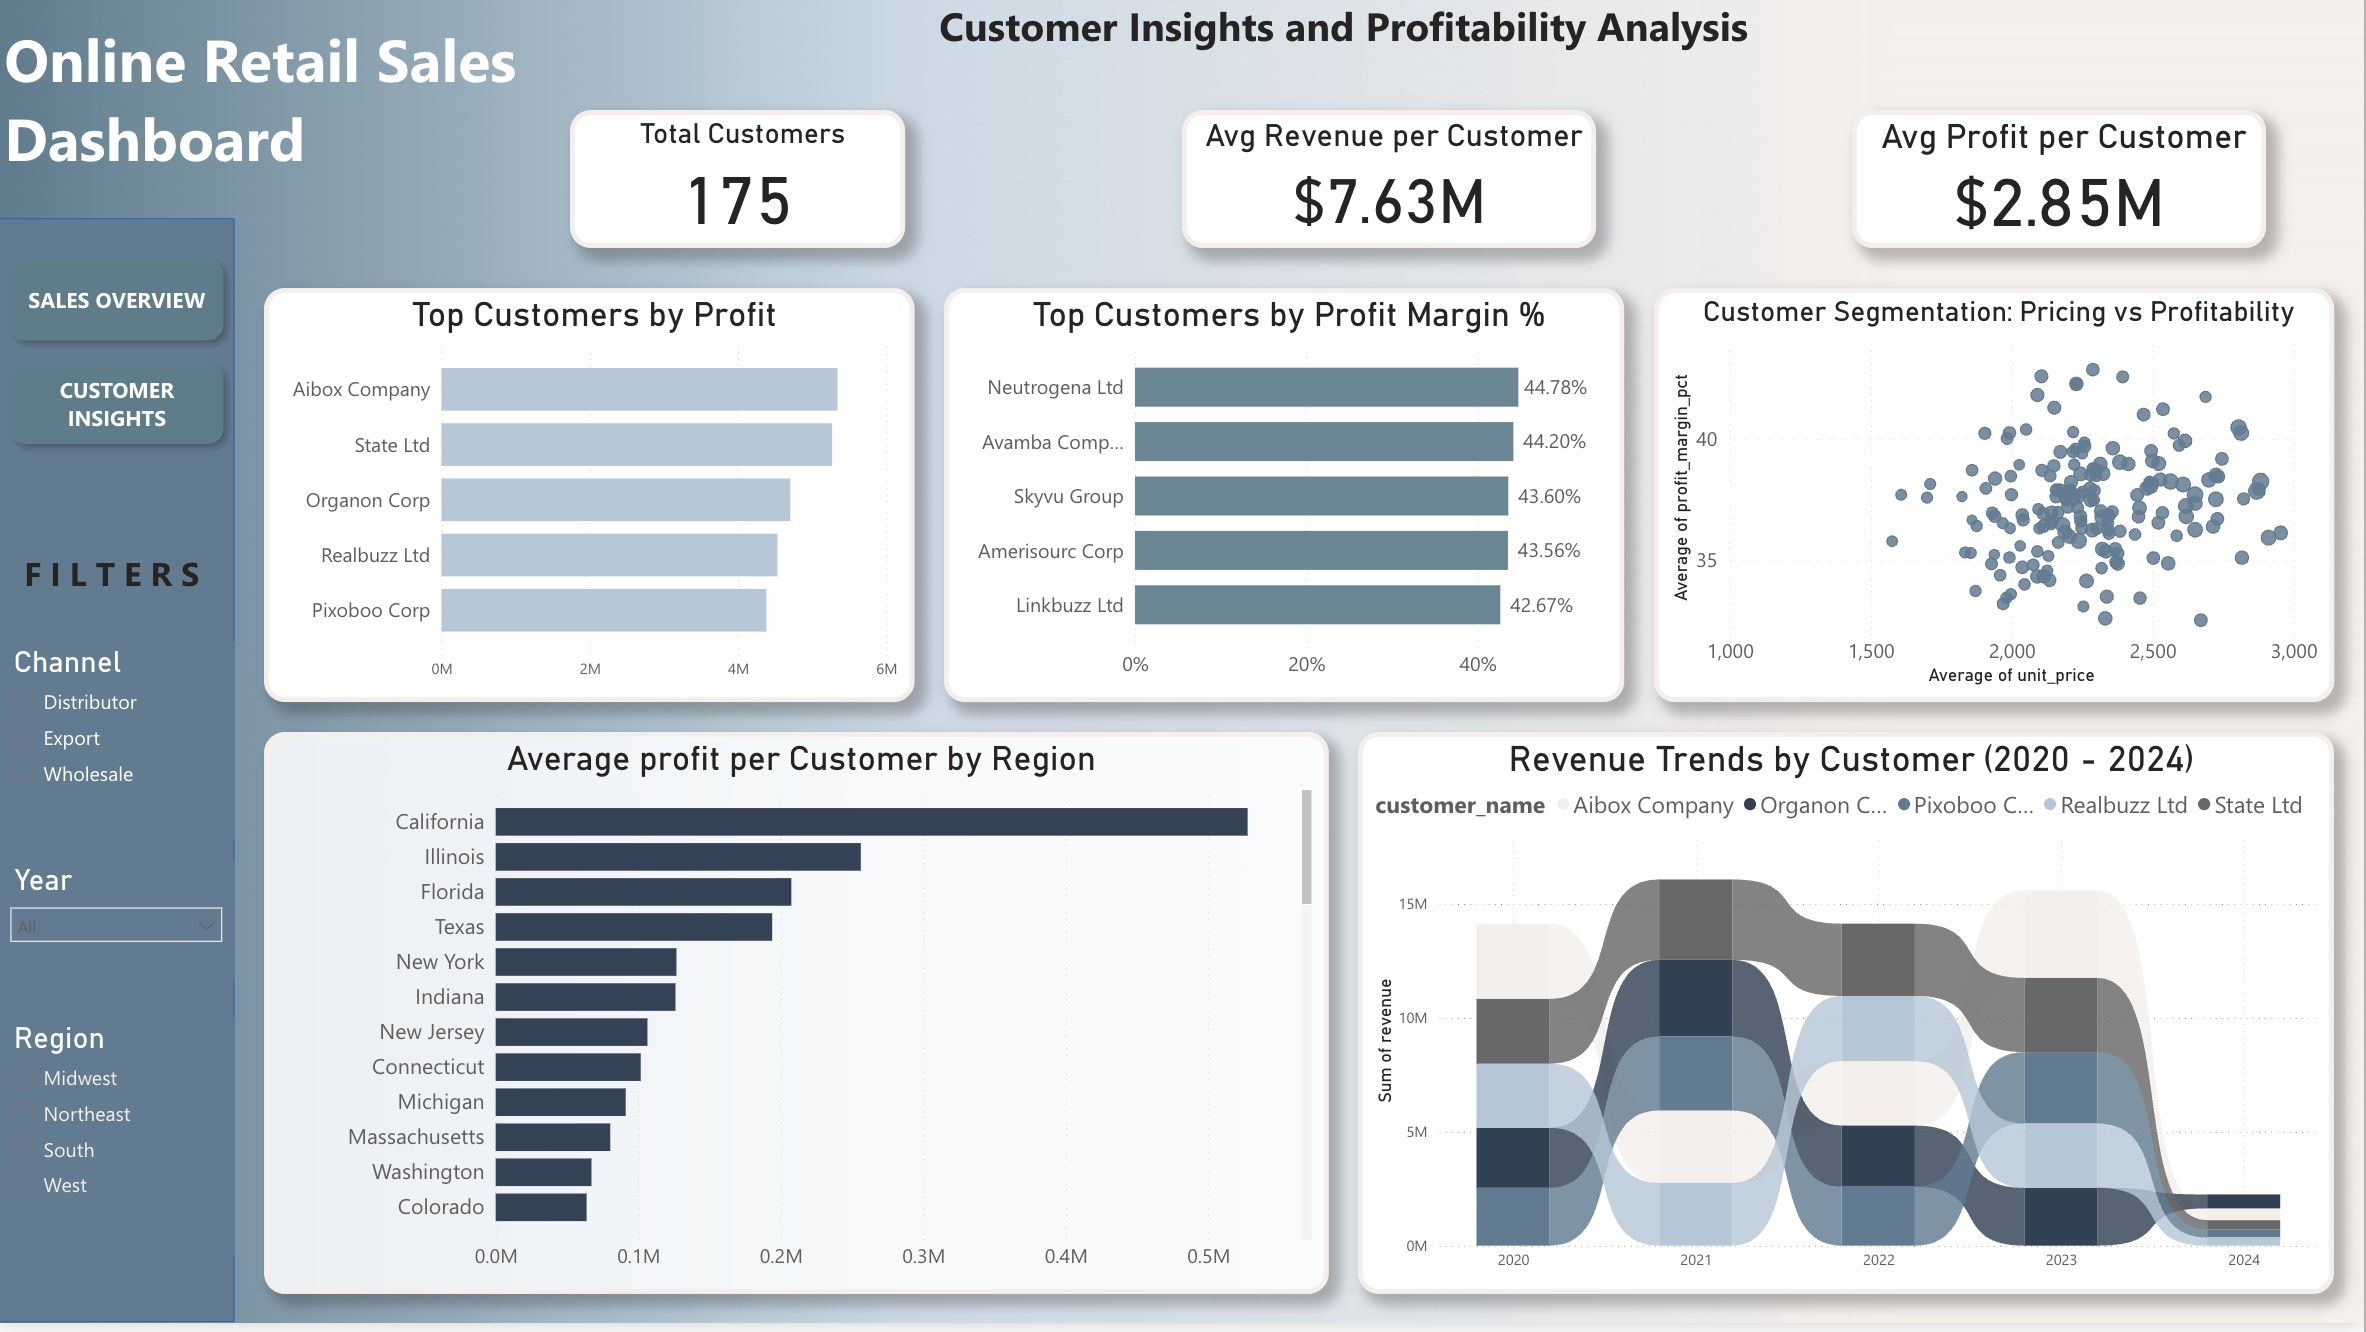

The dashboard page shown, as its layout file describes it:
{"tool":"powerbi","page":{"name":"CUSTOMER INSIGHTS","canvas":[1920,1080],"ordinal":1},"visuals":[{"type":"shape","box":[0,184,192,896],"z":0},{"type":"clusteredBarChart","title":"Top Customers by Profit","fields":{"Category":["Sales.customer_name"],"Y":["Sum(Sales.profit)"]},"box":[216,240,528,336],"z":1000},{"type":"scatterChart","title":"Customer Segmentation: Pricing vs Profitability","fields":{"Size":["Sum(Sales.revenue)"],"X":["Avg(Sales.unit_price)"],"Y":["Avg(Sales.profit_margin_pct)"],"Category":["Sales.customer_name"]},"box":[1344,240,552,336],"z":2000},{"type":"barChart","title":"Top Customers by Profit Margin %","fields":{"Category":["Sales.customer_name"],"Y":["Measures -.Profit Margin %"]},"box":[768,240,552,336],"z":3000},{"type":"ribbonChart","title":"Revenue Trends by Customer (2020 - 2024)","fields":{"Category":["Sales.Year"],"Series":["Sales.customer_name"],"Y":["Sum(Sales.revenue)"]},"box":[1104,600,792,456],"z":4000},{"type":"clusteredBarChart","title":"Average profit per Customer by Region","fields":{"Category":["Sales.state_name"],"Y":["Measures -.Profit per Customer"]},"box":[216,600,864,456],"z":5000},{"type":"card","title":"Total Customers","fields":{"Values":["Measures -.Total Customers"]},"box":[464,96,272,112],"z":6000},{"type":"card","title":"Avg Revenue per Customer ","fields":{"Values":["Measures -.Avg Revenue per Customer"]},"box":[960,96,336,112],"z":7000},{"type":"card","title":"Avg Profit per Customer","fields":{"Values":["Measures -.Avg Profit per Customer"]},"box":[1504,96,336,112],"z":8000},{"type":"textbox","box":[192,0,1704,72],"z":9000},{"type":"pageNavigator","box":[0,256,192,160],"z":10000},{"type":"textbox","box":[16,448,176,80],"z":11000},{"type":"textbox","box":[0,16,528,176],"z":12000},{"type":"slicer","fields":{"Values":["Sales.channel"]},"box":[6,544,176,176],"z":13000},{"type":"slicer","fields":{"Values":["Sales.Year"]},"box":[5,736,176,96],"z":14000},{"type":"slicer","fields":{"Values":["Sales.us_region"]},"box":[5,864,176,192],"z":15000},{"type":"textbox","box":[16,208,1888,96],"z":16000},{"type":"actionButton","box":[1792,16,96,64],"z":16001}]}

Visuals, with their boxes in screenshot pixels (x1, y1, x2, y2), scaled from the page's 1920x1080 canvas onto the 2366x1332 screenshot:
shape: Rect(0, 227, 237, 1331)
"Top Customers by Profit" clusteredBarChart: Rect(266, 296, 917, 710)
"Customer Segmentation: Pricing vs Profitability" scatterChart: Rect(1656, 296, 2336, 710)
"Top Customers by Profit Margin %" barChart: Rect(946, 296, 1627, 710)
"Revenue Trends by Customer (2020 - 2024)" ribbonChart: Rect(1360, 740, 2336, 1302)
"Average profit per Customer by Region" clusteredBarChart: Rect(266, 740, 1331, 1302)
"Total Customers" card: Rect(572, 118, 907, 257)
"Avg Revenue per Customer " card: Rect(1183, 118, 1597, 257)
"Avg Profit per Customer" card: Rect(1853, 118, 2267, 257)
textbox: Rect(237, 0, 2336, 89)
pageNavigator: Rect(0, 316, 237, 513)
textbox: Rect(20, 553, 237, 651)
textbox: Rect(0, 20, 651, 237)
slicer - Sales.channel: Rect(7, 671, 224, 888)
slicer - Sales.Year: Rect(6, 908, 223, 1026)
slicer - Sales.us_region: Rect(6, 1066, 223, 1302)
textbox: Rect(20, 257, 2346, 375)
actionButton: Rect(2208, 20, 2327, 99)
